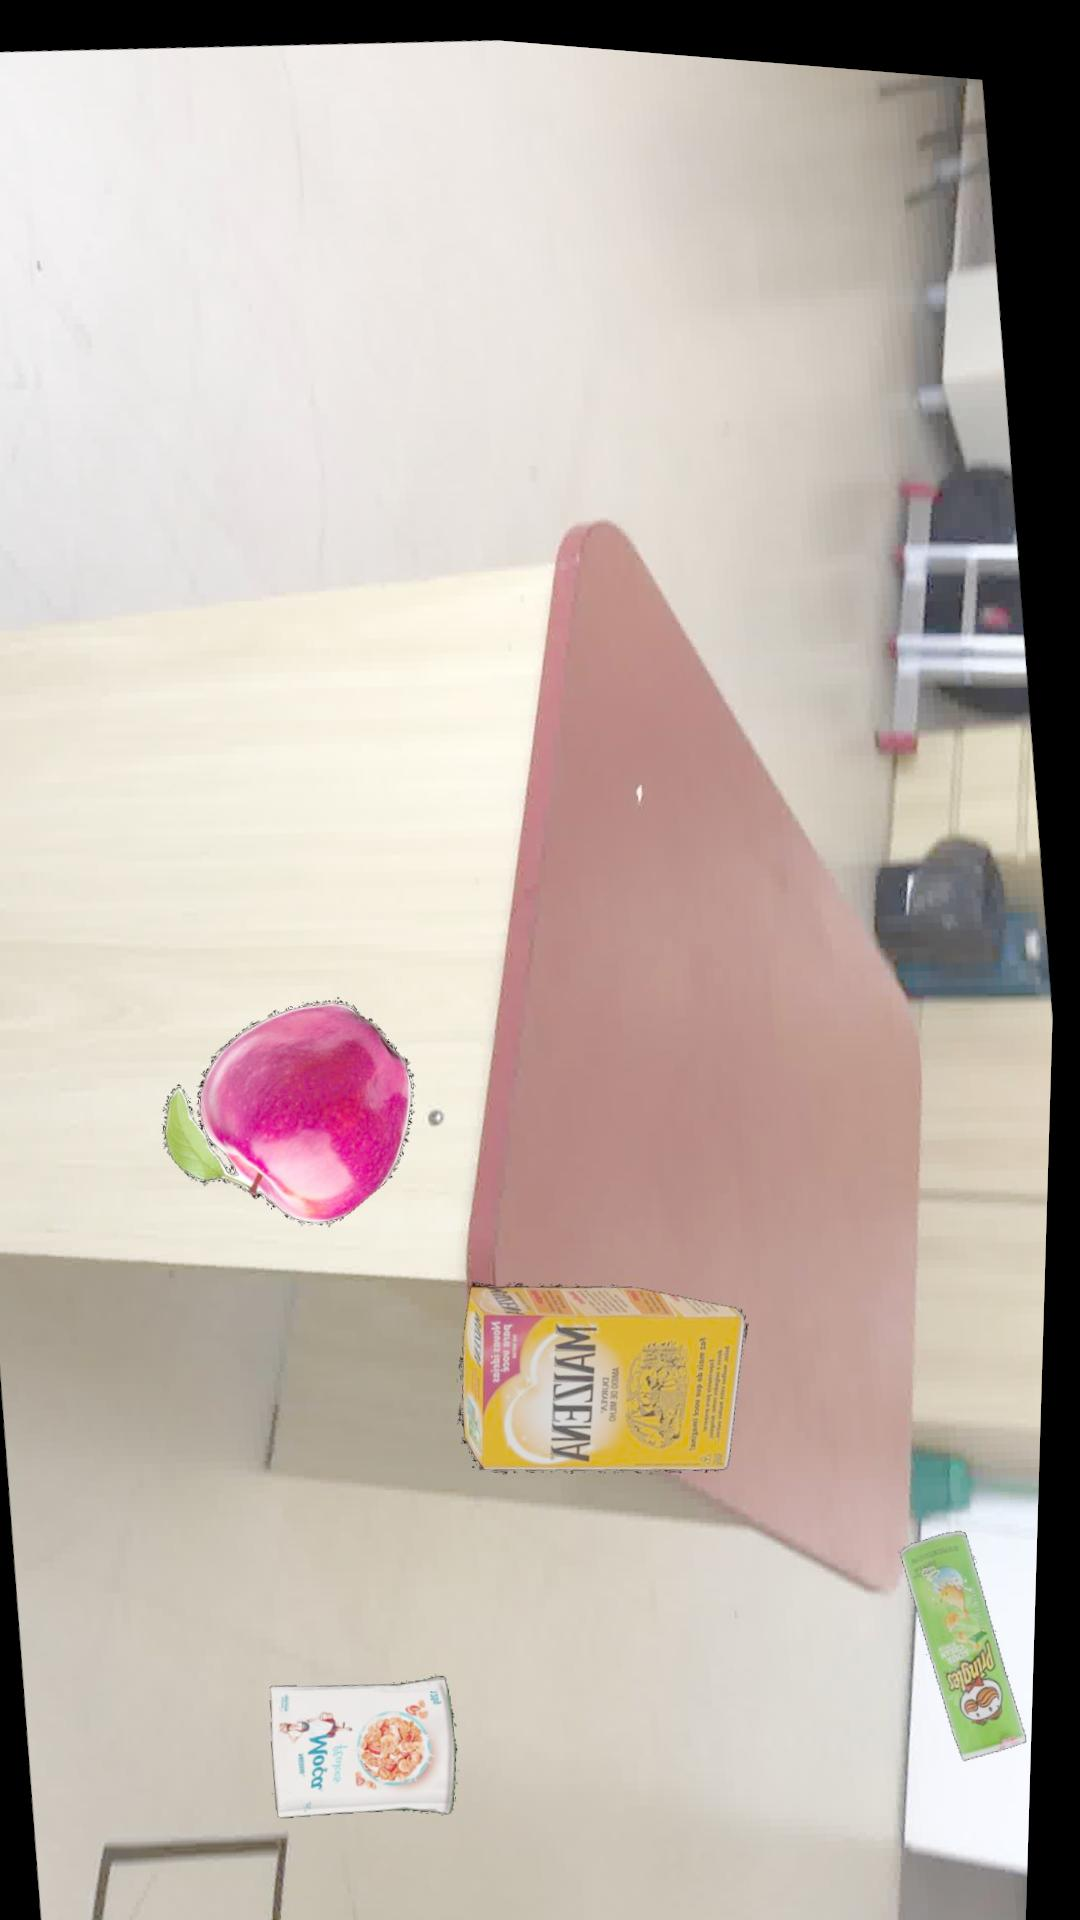apple: (167, 992, 418, 1216)
corn flakes: (278, 1665, 465, 1809)
pringles: (907, 1511, 1034, 1741)
